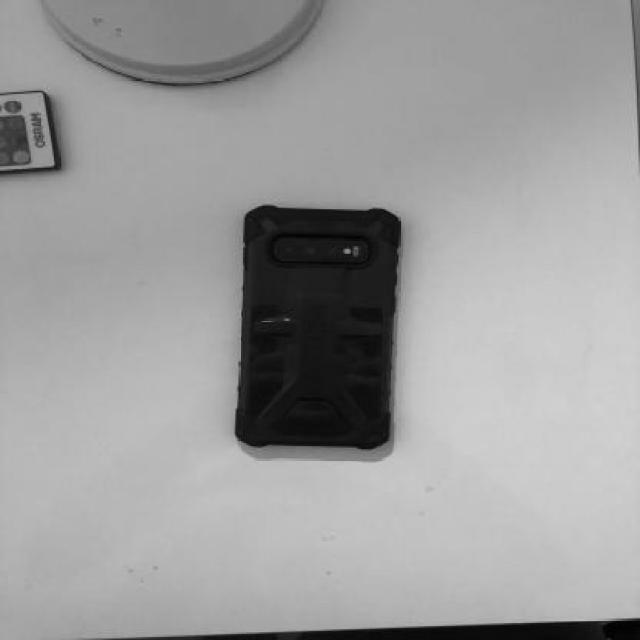fake: (236, 204, 398, 448)
